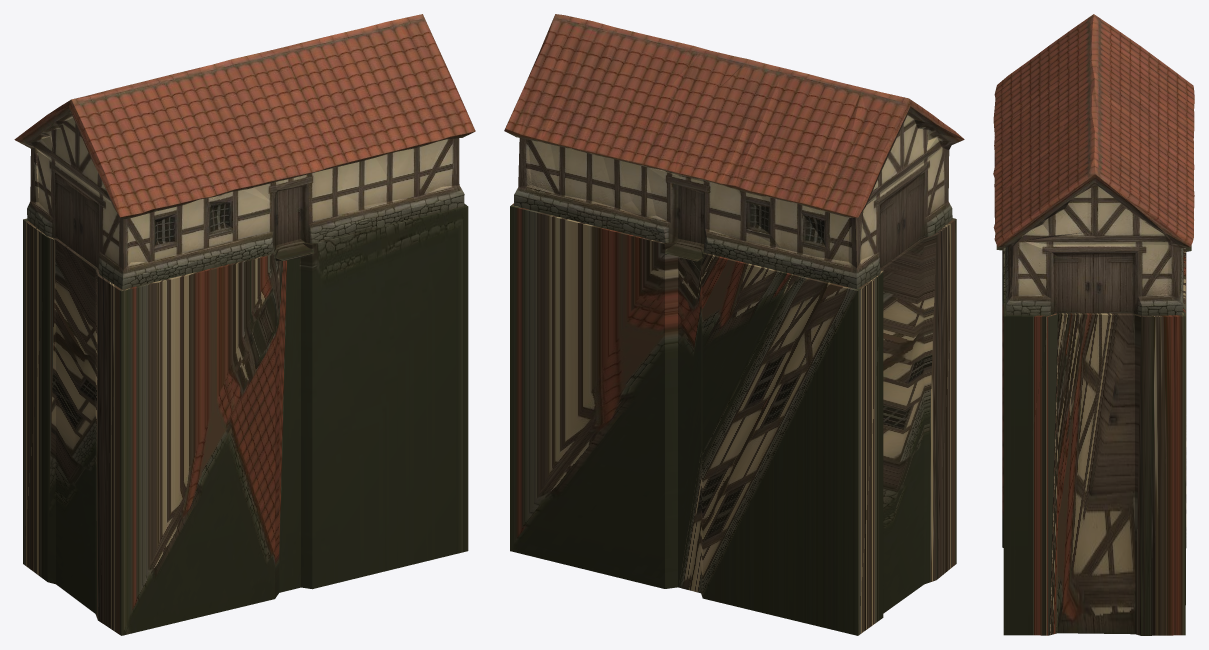
File: longhouse.glb
3 renders of one model, left to right at view 1: azimuth 30°, elevation 25°; view 2: azimuth 150°, elevation 25°; view 3: azimuth 270°, elevation 25°, orthographic. The views are drawn at different scales.
Parts seen in each view (by area): view 1: longhouse_export; view 2: longhouse_export; view 3: longhouse_export.
Boxes of the visible parts, <box> form: longhouse_export: <box>14,14,475,635</box>; longhouse_export: <box>504,14,964,635</box>; longhouse_export: <box>993,14,1194,635</box>.
Bounding box in the file's own units: 20 × 26.91 × 10.58.
Materials: 2 (2 with a texture image).
